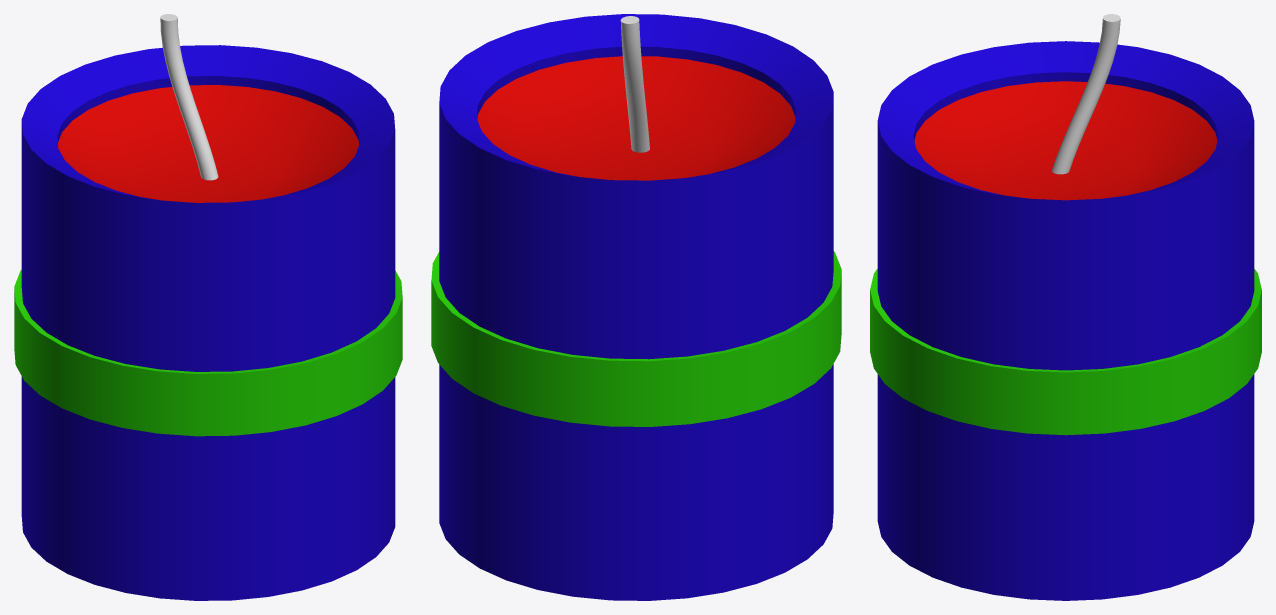
Rendered from candle_uv.fbx.
3 renders of one model, left to right at view 1: azimuth 30°, elevation 25°; view 2: azimuth 150°, elevation 25°; view 3: azimuth 270°, elevation 25°, orthographic. The views are drawn at different scales.
Visible parts, largest first — view 1: candle, knot; view 2: candle, knot; view 3: candle, knot.
Boxes of the visible parts, bbox=[...] form: candle: bbox=[14, 45, 402, 600]; knot: bbox=[160, 14, 218, 180]; candle: bbox=[431, 14, 841, 600]; knot: bbox=[620, 16, 649, 152]; candle: bbox=[870, 41, 1261, 600]; knot: bbox=[1051, 14, 1120, 174].
Bounding box in the file's own units: 177 × 247 × 177.
